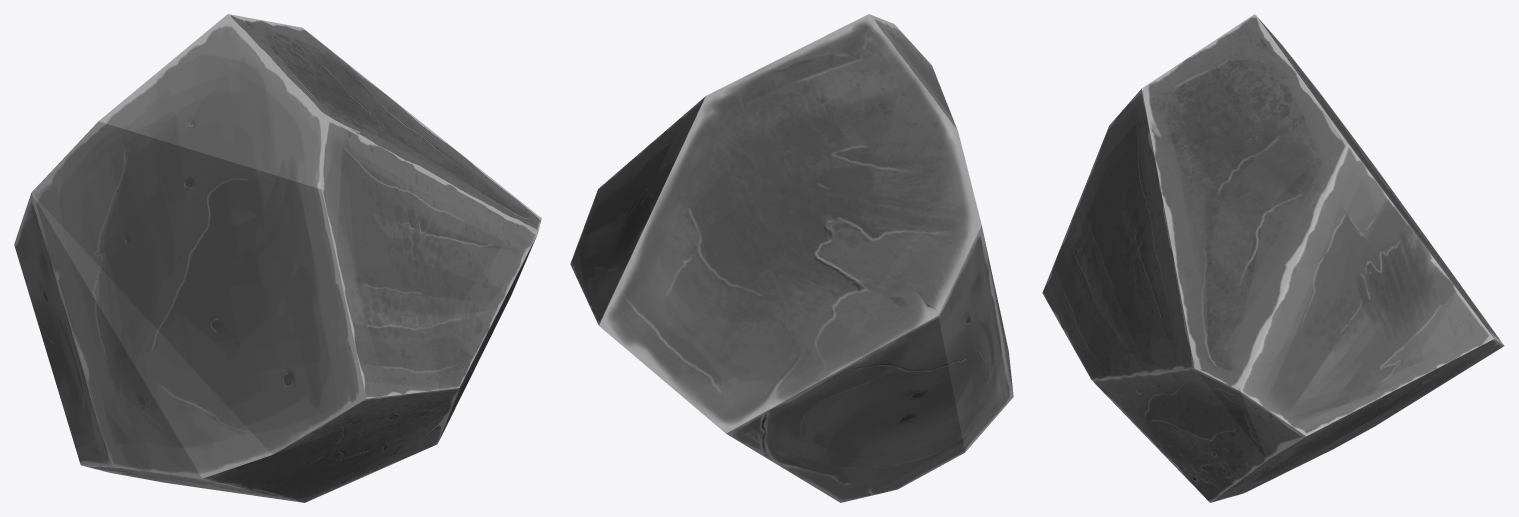
Rendered from rock.fbx.
3 views of the same model, side by side, from view 1: azimuth 30°, elevation 25°; view 2: azimuth 150°, elevation 25°; view 3: azimuth 270°, elevation 25° (orthographic). The views are drawn at different scales.
Parts seen in each view (by area): view 1: Cube; view 2: Cube; view 3: Cube.
Boxes of the visible parts, x1,y1,x2,y2 form: Cube: [14, 14, 541, 502]; Cube: [570, 14, 1013, 502]; Cube: [1042, 14, 1504, 502].
Bounding box in the file's own units: 156 × 161 × 150.
1 material, 1 textured.
